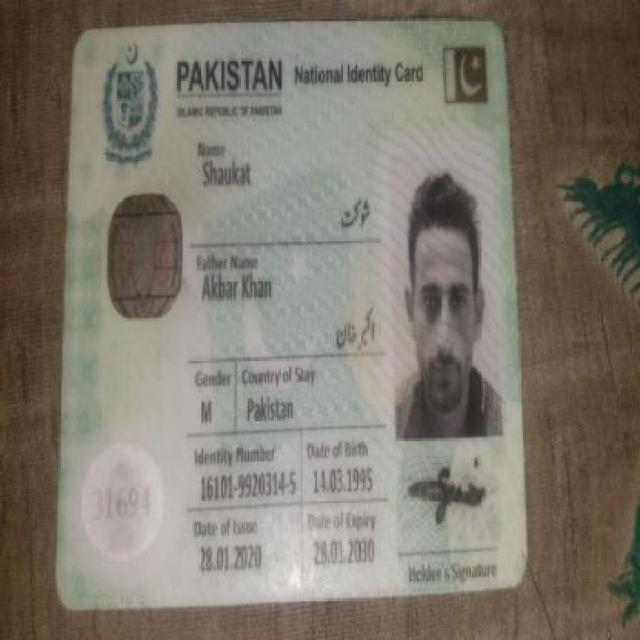Front: (48, 11, 532, 597)
